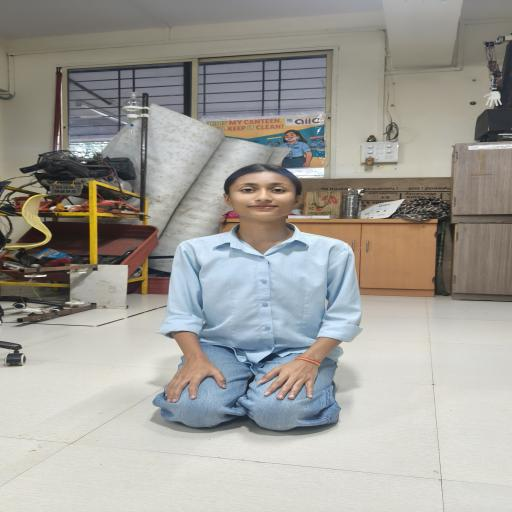survivor: (152, 163, 364, 431)
